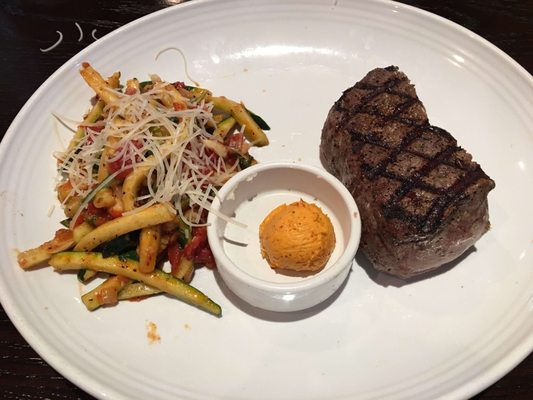sushi: (206, 161, 362, 315)
